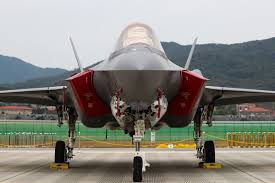fighter: (2, 14, 275, 161)
